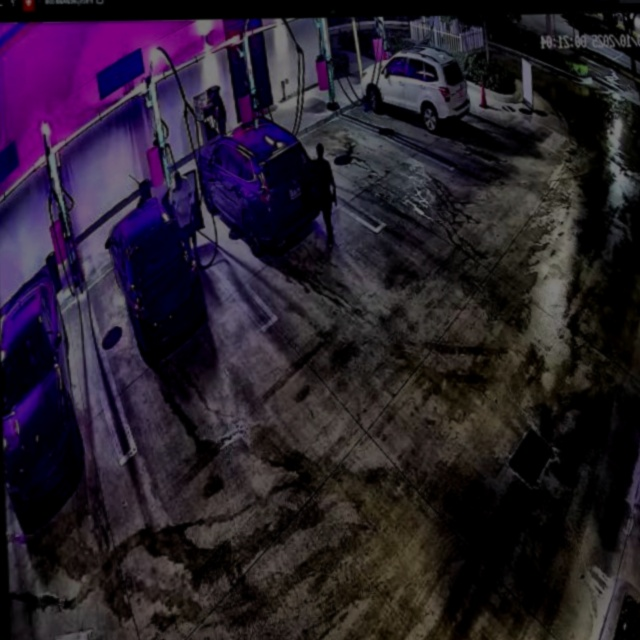Car: (106, 185, 210, 357), (195, 117, 324, 255)
